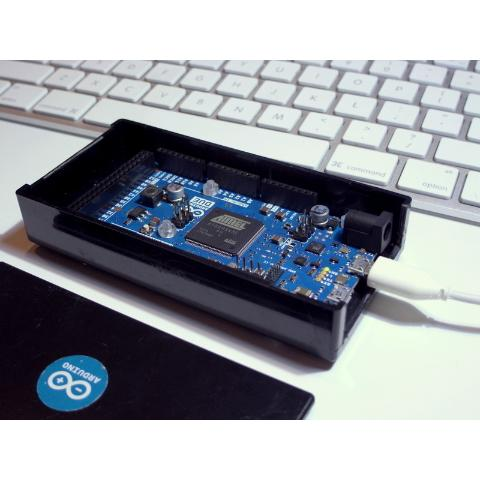Arduino-Due: (52, 136, 400, 334)
